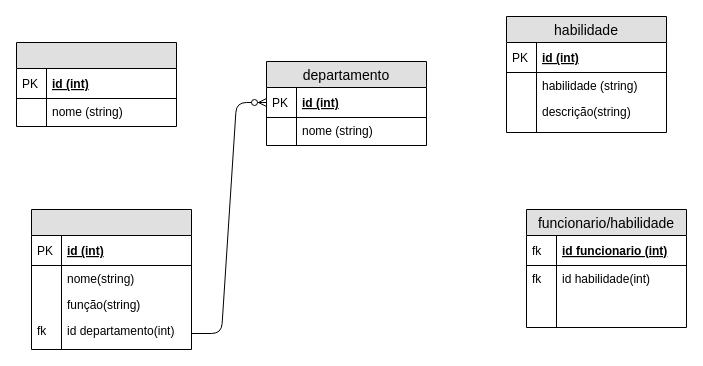
This 703x366 diagram has some shape labels left out. The shapes that lost their labels are listed below. From the top down, each one's box as (x1, y1, x2, y2) in pixels, then its label:
(16, 42, 176, 126): função
(30, 208, 192, 350): funcionario
